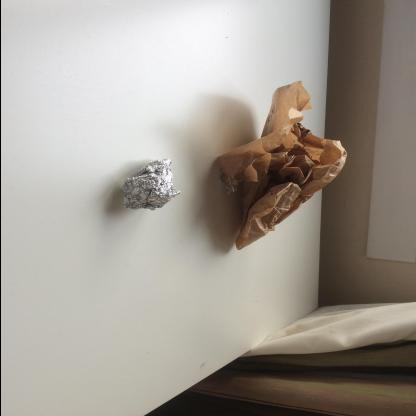kagit: (213, 80, 348, 253)
metal: (113, 158, 183, 214)
